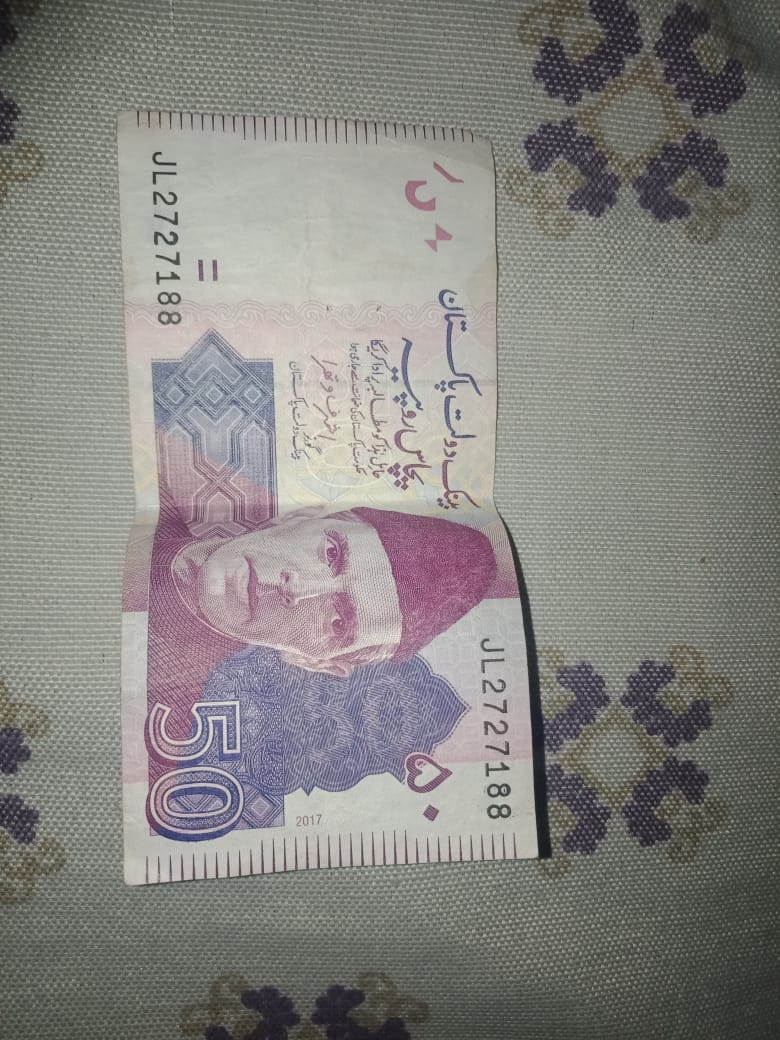50 rupee: (100, 106, 536, 898)
